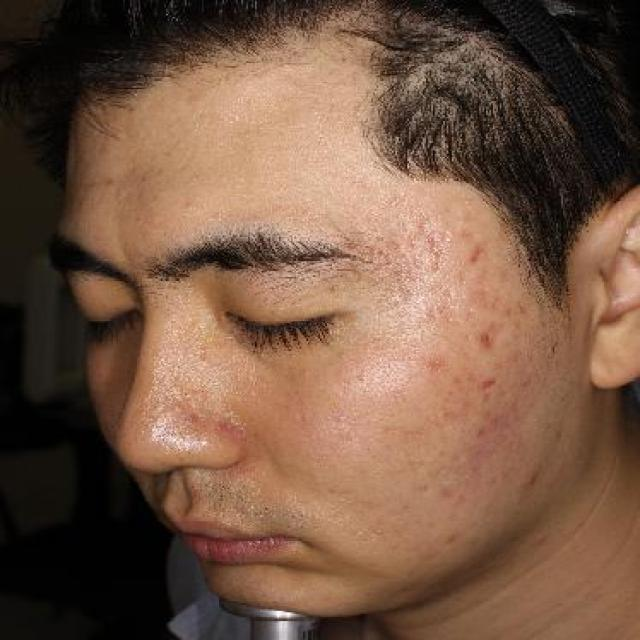dark spot: (458, 242, 494, 266), (474, 328, 503, 350), (476, 374, 505, 392)
papules: (520, 468, 546, 494)
